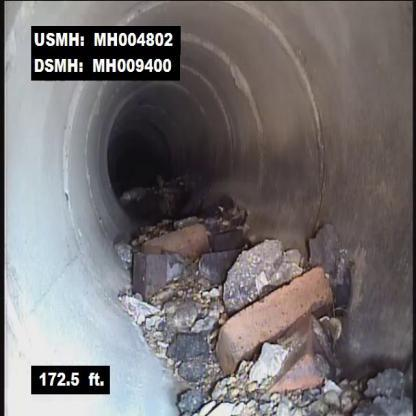debris: (110, 233, 416, 414)
